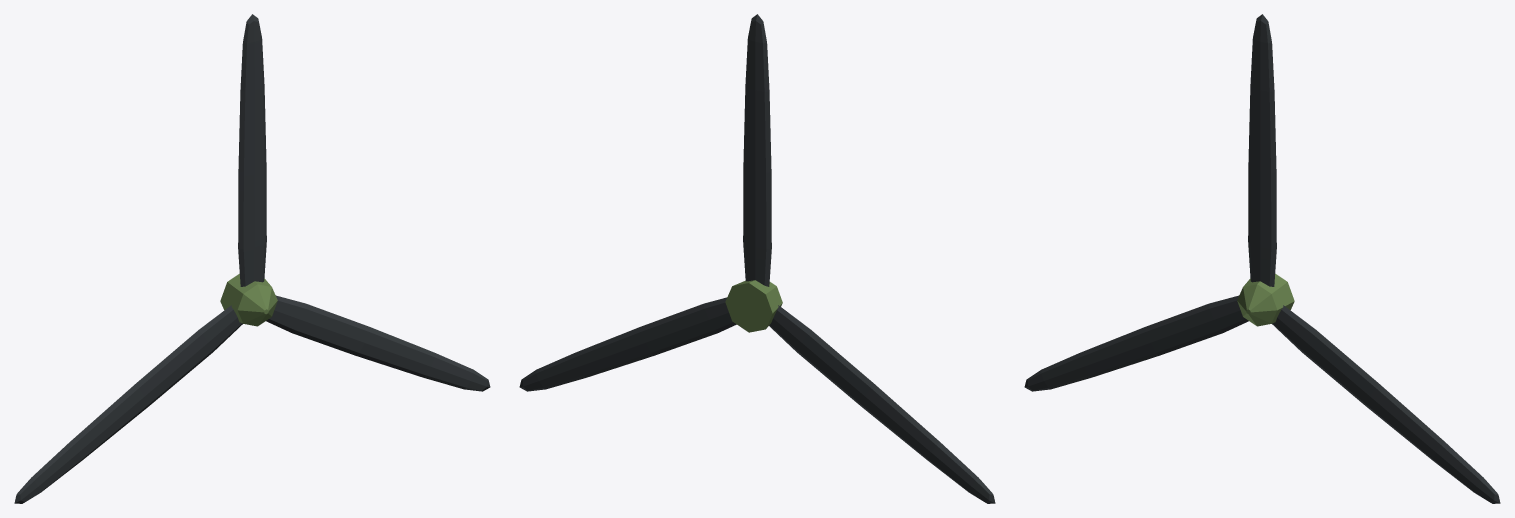
File: Windmill_01_2.fbx
3 renders of one model, left to right at view 1: azimuth 30°, elevation 25°; view 2: azimuth 150°, elevation 25°; view 3: azimuth 330°, elevation 25°, orthographic.
Parts seen in each view (by area): view 1: Windmill_01_2; view 2: Windmill_01_2; view 3: Windmill_01_2.
Boxes of the visible parts, x1,y1,x2,y2 form: Windmill_01_2: (14,14,490,503); Windmill_01_2: (519,14,995,503); Windmill_01_2: (1024,14,1500,503).
Size of the model in its own units: 4.92 by 4.29 by 0.4028.
